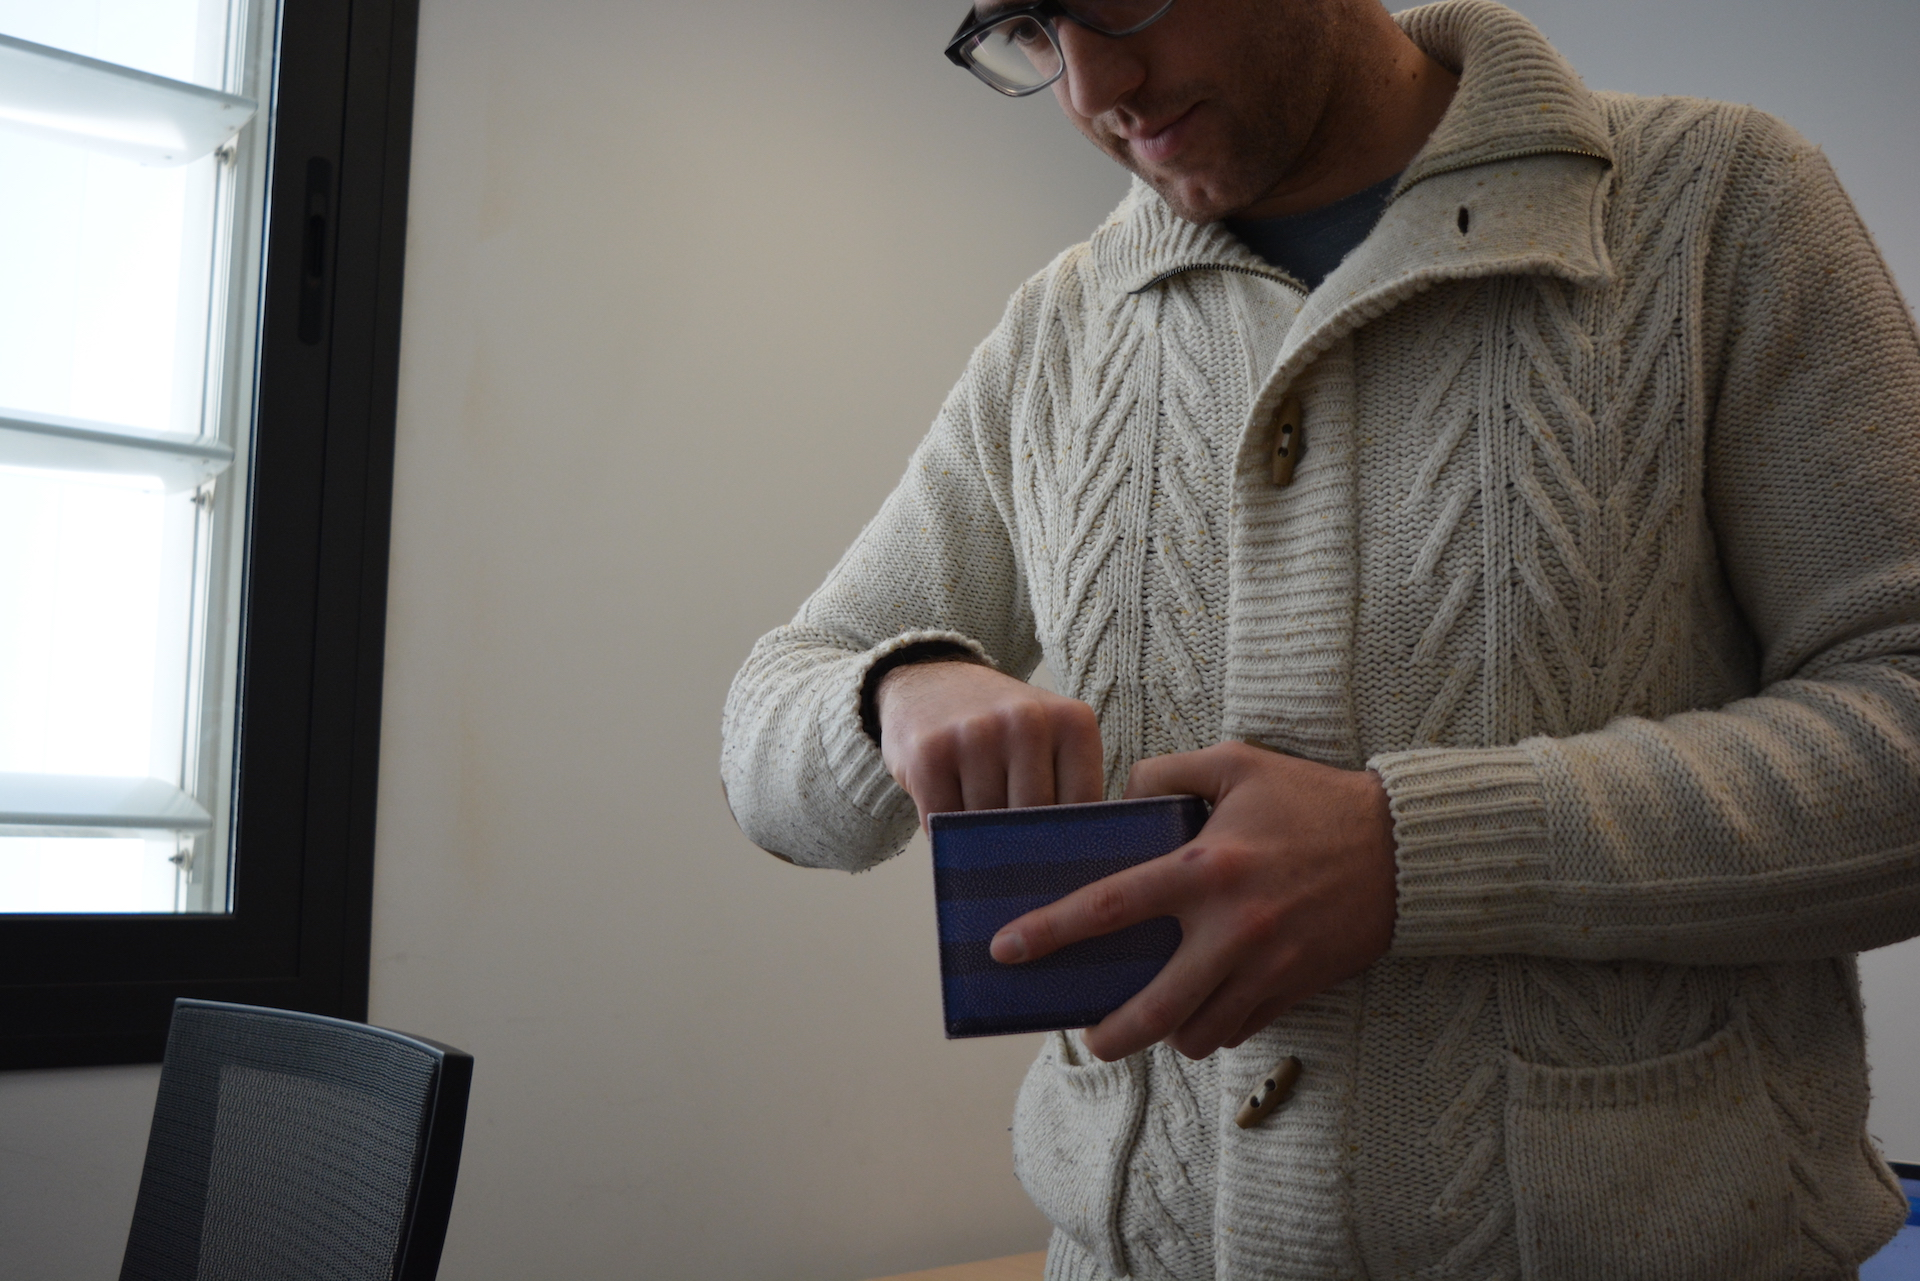monedero: (925, 791, 1209, 1044)
